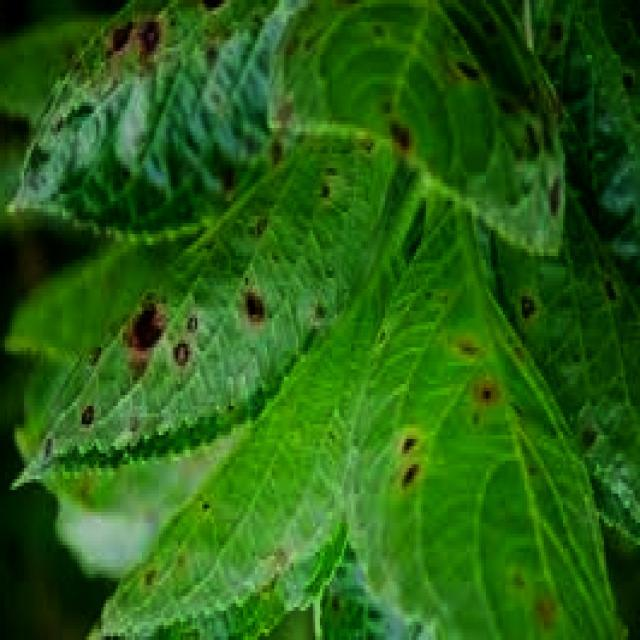Bercak Daun Serkospora: (348, 205, 624, 640)
